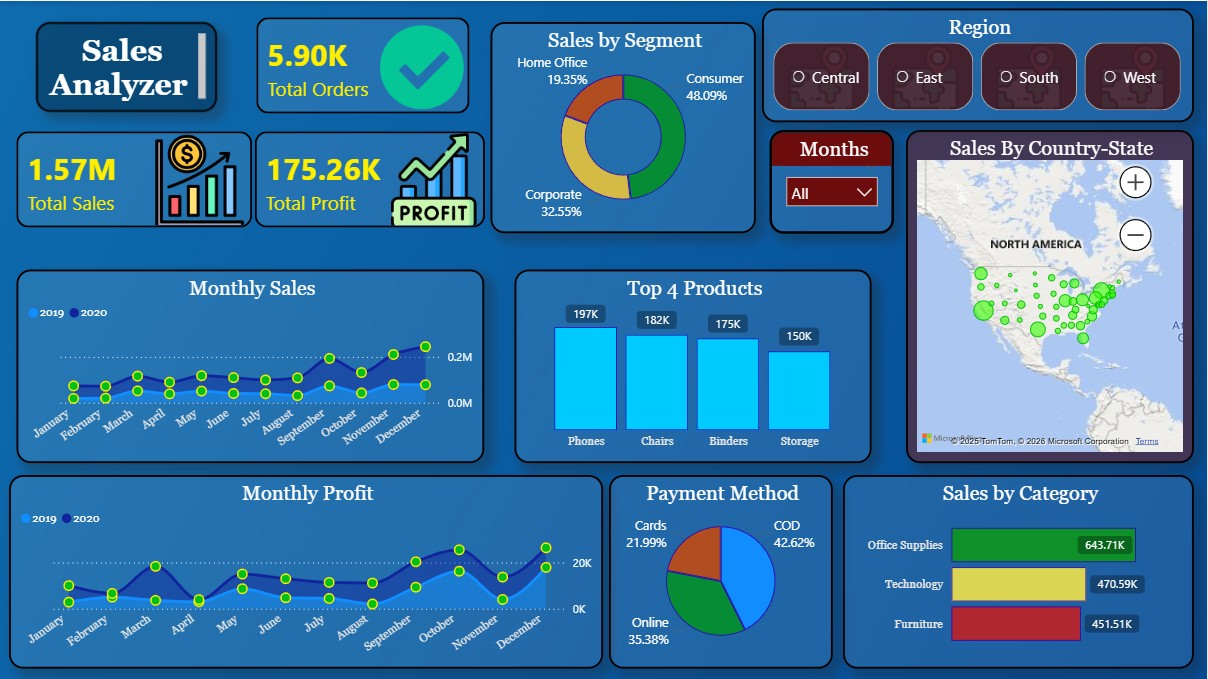

The dashboard page shown, as its layout file describes it:
{"tool":"powerbi","page":{"name":"Page 1","canvas":[1280,720],"ordinal":0},"visuals":[{"type":"clusteredBarChart","title":"Sales by Category","fields":{"Category":["Order Data.Category"],"Y":["Sum(Order Data.Sales)"]},"box":[893.9,502.6,372.2,205.2],"z":0},{"type":"clusteredColumnChart","title":"Top 4 Products","fields":{"Category":["Order Data.Sub-Category"],"Y":["Sum(Order Data.Sales)"]},"box":[545.6,284.7,378.6,205.2],"z":1000},{"type":"stackedAreaChart","title":"Monthly Sales","fields":{"Category":["Order Data.Order Date.Variation.Date Hierarchy.Month"],"Y":["Sum(Order Data.Sales)"],"Series":["Order Data.Order Date.Variation.Date Hierarchy.Year"]},"box":[17.5,284.7,496.3,205.2],"z":2000},{"type":"map","title":"Sales By Country-State","fields":{"Category":["Customer Data.State"],"Size":["Order Data.Total Sales"]},"box":[960,136.7,305,353.3],"z":3000},{"type":"stackedAreaChart","title":"Monthly Profit","fields":{"Category":["Order Data.Order Date.Variation.Date Hierarchy.Month"],"Series":["Order Data.Order Date.Variation.Date Hierarchy.Year"],"Y":["Sum(Order Data.Profit)"]},"box":[9.5,502.6,629.9,205.2],"z":4000},{"type":"donutChart","title":"Sales by Segment","fields":{"Category":["Customer Data.Work"],"Y":["Sum(Order Data.Sales)"]},"box":[520.1,22.3,281.5,224.3],"z":5000},{"type":"pieChart","title":"Payment Method","fields":{"Y":["Sum(Order Data.Sales)"],"Category":["Order Data.Payment Mode"]},"box":[645.8,502.6,237,205.2],"z":6000},{"type":"advancedSlicerVisual","fields":{"Values":["Customer Data.Region"]},"box":[808,8,458.1,120.9],"z":7000},{"type":"cardVisual","fields":{"Data":["Order Data.Total Profit"]},"box":[252.9,120.9,278.4,136.8],"z":8000},{"type":"cardVisual","fields":{"Data":["Order Data.Total Sales"]},"box":[0,120.9,284.7,136.8],"z":9000},{"type":"cardVisual","fields":{"Data":["Order Data.Total Orders"]},"box":[255,0,260,136.7],"z":10000},{"type":"slicer","title":"Months","fields":{"Values":["Order Data.Order Date.Variation.Date Hierarchy.Month"]},"box":[816,136.8,132,109.8],"z":11000},{"type":"textbox","box":[38.3,21.7,191.7,95],"z":12000}]}

Visuals, with their boxes in screenshot pixels (x1, y1, x2, y2), scaled from the page's 1280x720 canvas onto the 1208x679 screenshot:
"Sales by Category" clusteredBarChart: (844,474,1195,667)
"Top 4 Products" clusteredColumnChart: (515,268,872,462)
"Monthly Sales" stackedAreaChart: (17,268,485,462)
"Sales By Country-State" map: (906,129,1194,462)
"Monthly Profit" stackedAreaChart: (9,474,603,667)
"Sales by Segment" donutChart: (491,21,757,233)
"Payment Method" pieChart: (609,474,833,667)
advancedSlicerVisual - Customer Data.Region: (763,8,1195,122)
cardVisual - Order Data.Total Profit: (239,114,501,243)
cardVisual - Order Data.Total Sales: (0,114,269,243)
cardVisual - Order Data.Total Orders: (241,0,486,129)
"Months" slicer: (770,129,895,233)
textbox: (36,20,217,110)
